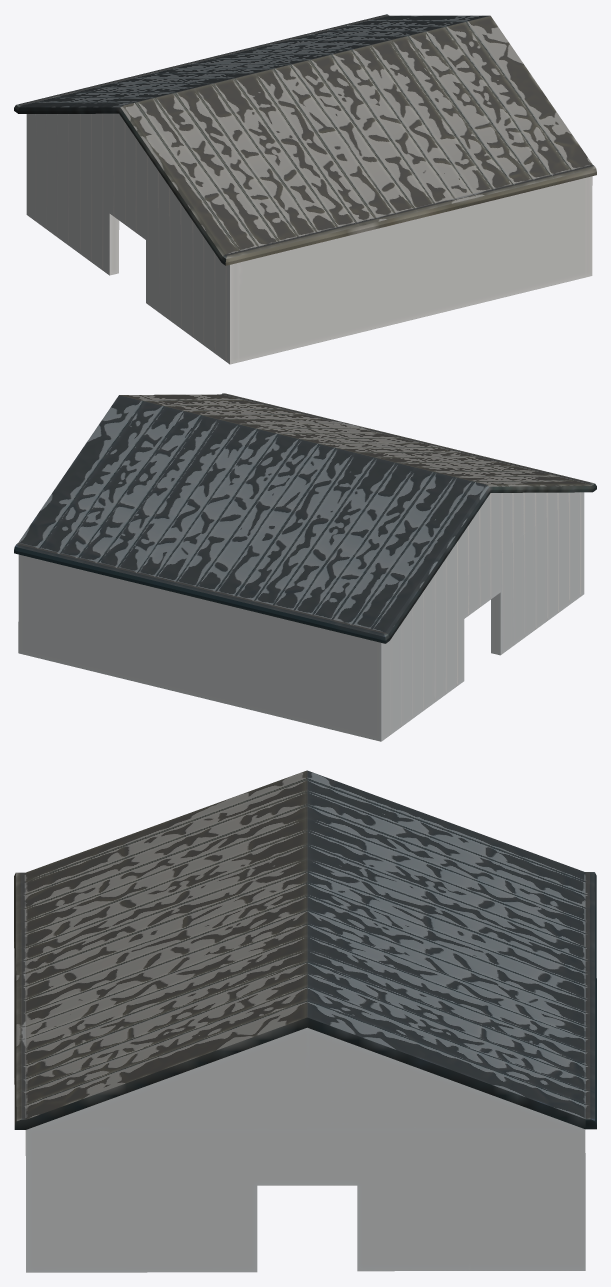
The model's file is Nortica Roof+walls.fbx.
The picture shows the model from 3 angles, top to bottom: view 1: azimuth 30°, elevation 25°; view 2: azimuth 150°, elevation 25°; view 3: azimuth 270°, elevation 25°; orthographic projection. The views are drawn at different scales.
Parts seen in each view (by area): view 1: Nortica Roof_LOW, Nortica walls_LOW; view 2: Nortica Roof_LOW, Nortica walls_LOW; view 3: Nortica Roof_LOW, Nortica walls_LOW.
Boxes of the visible parts, box(x1,y1,x2,y2) form: Nortica Roof_LOW: box(14, 14, 596, 265); Nortica walls_LOW: box(26, 113, 592, 364); Nortica Roof_LOW: box(14, 393, 596, 643); Nortica walls_LOW: box(18, 492, 584, 741); Nortica Roof_LOW: box(14, 770, 596, 1129); Nortica walls_LOW: box(25, 1027, 585, 1272).
Size of the model in its own units: 1912 by 911 by 1886.
Materials: 2 (2 with a texture image).
